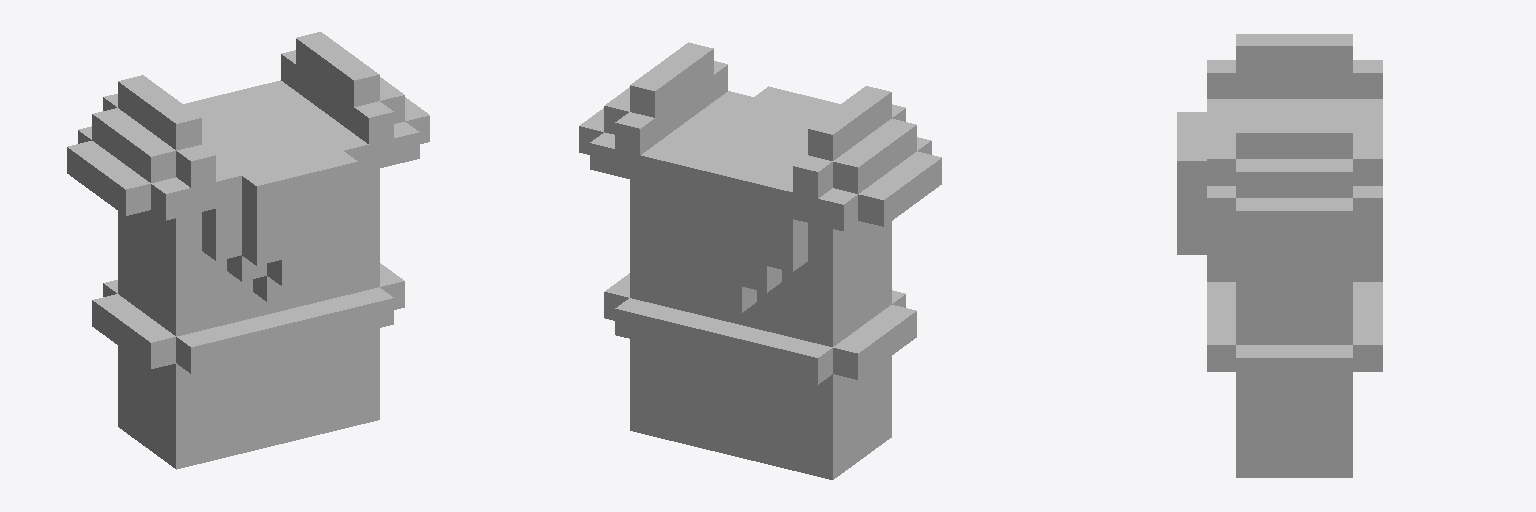
File: Chest.obj
3 renders of one model, left to right at view 1: azimuth 30°, elevation 25°; view 2: azimuth 150°, elevation 25°; view 3: azimuth 270°, elevation 25°, orthographic.
Visible parts, largest first — view 1: Chest; view 2: Chest; view 3: Chest.
Part boxes in pixels (x1,y1,x2,y2): Chest: (67, 32, 429, 469); Chest: (579, 42, 941, 479); Chest: (1177, 34, 1382, 477).
Bounding box in the file's own units: 12 × 13 × 7.